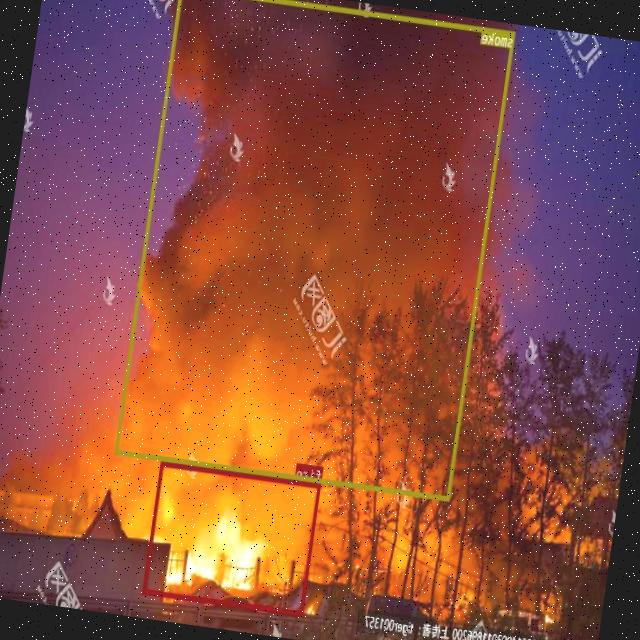fire: (143, 462, 322, 616)
smoke: (115, 0, 516, 501)
